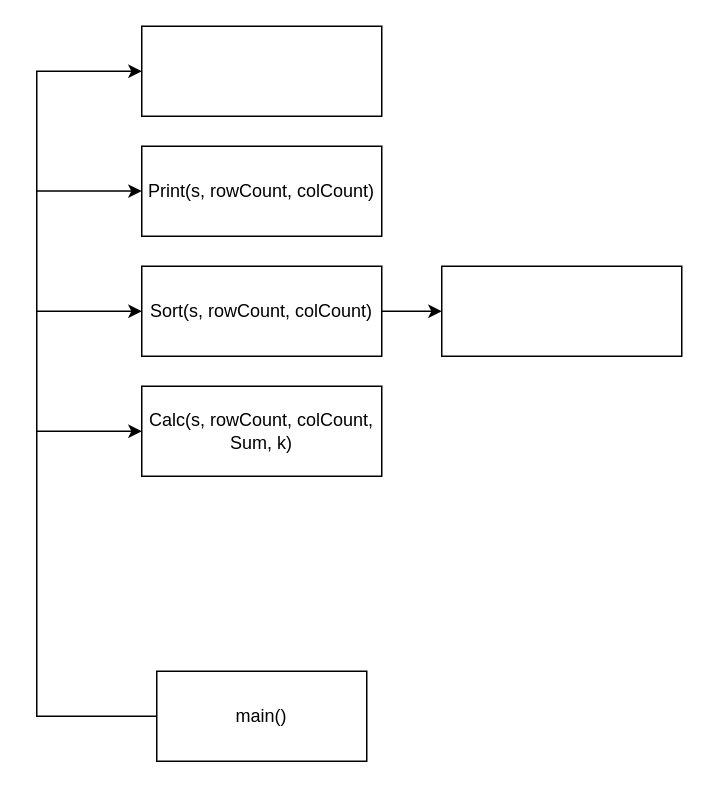
Image size: 708x788. Some labels were removed from this diagram. Here are the shapes that lost their labels. From the top down, the centre of each, then its label:
(261,70): Create(s, rowCount, colCount, Low, High)
(561,310): Change(s, i1, i1 + 1, colCount
